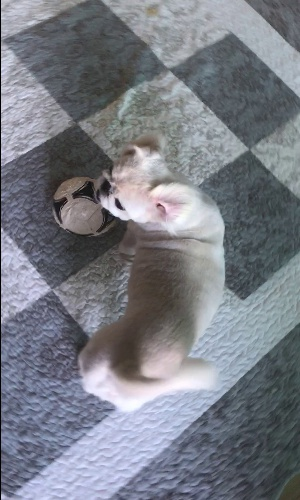ddubi: (74, 133, 230, 415)
